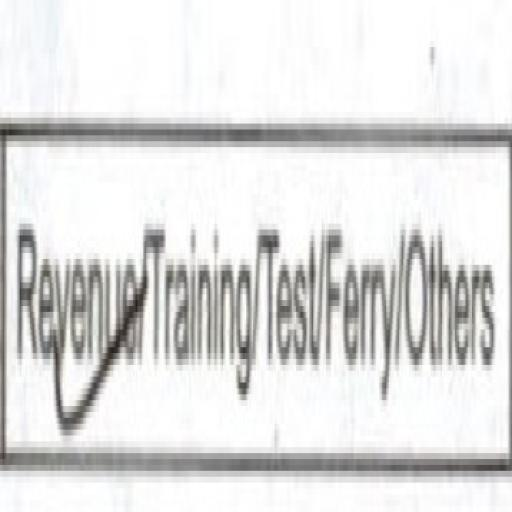check: (1, 6, 143, 512)
